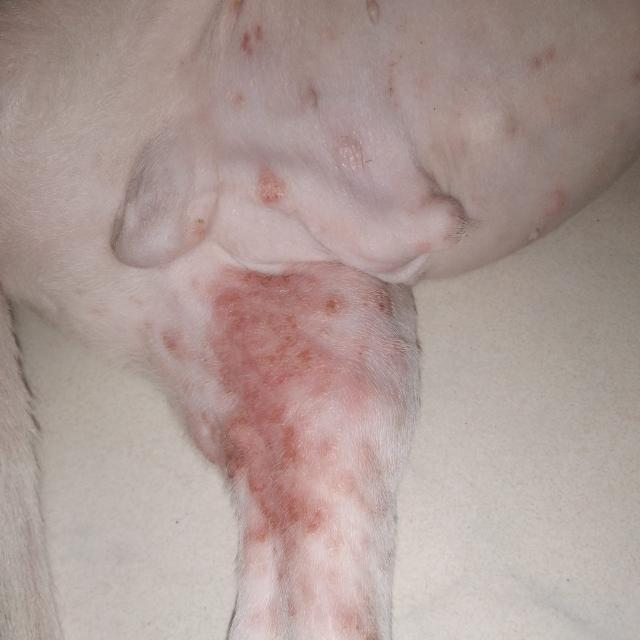di ung bo chet: (171, 243, 415, 566)
